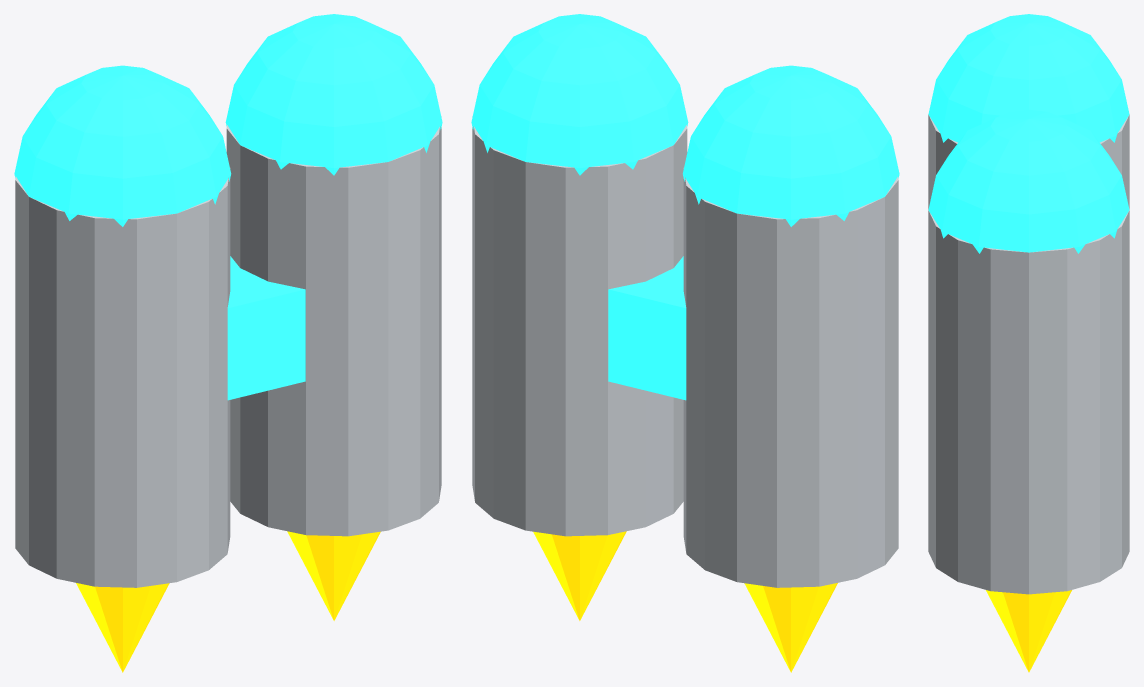
File: item_soccer.glb
3 renders of one model, left to right at view 1: azimuth 30°, elevation 25°; view 2: azimuth 150°, elevation 25°; view 3: azimuth 270°, elevation 25°, orthographic. The views are drawn at different scales.
Visible parts, largest first — view 1: Cylinder, Cylinder.001, Sphere.001, Sphere, Cube, Cone, Cone.001; view 2: Cylinder, Cylinder.001, Sphere.001, Sphere, Cube, Cone, Cone.001; view 3: Cylinder.001, Sphere.001, Sphere, Cone.001, Cylinder.
Part boxes in pixels (x1,y1,x2,y2): Cylinder: (15, 168, 230, 587); Cylinder.001: (226, 116, 441, 536); Sphere.001: (225, 14, 442, 175); Sphere: (14, 65, 231, 226); Cube: (227, 256, 305, 400); Cone: (76, 583, 169, 672); Cone.001: (287, 531, 380, 620); Cylinder: (683, 168, 898, 587); Cylinder.001: (472, 116, 687, 536); Sphere.001: (471, 14, 688, 175); Sphere: (682, 65, 899, 226); Cube: (608, 256, 686, 400); Cone: (744, 583, 837, 672); Cone.001: (533, 531, 626, 620); Cylinder.001: (928, 210, 1129, 594); Sphere.001: (928, 109, 1129, 253); Sphere: (928, 14, 1129, 142); Cone.001: (986, 590, 1071, 672); Cylinder: (928, 115, 1129, 209).
Bounding box in the file's own units: 1.36 × 1.94 × 0.64.
